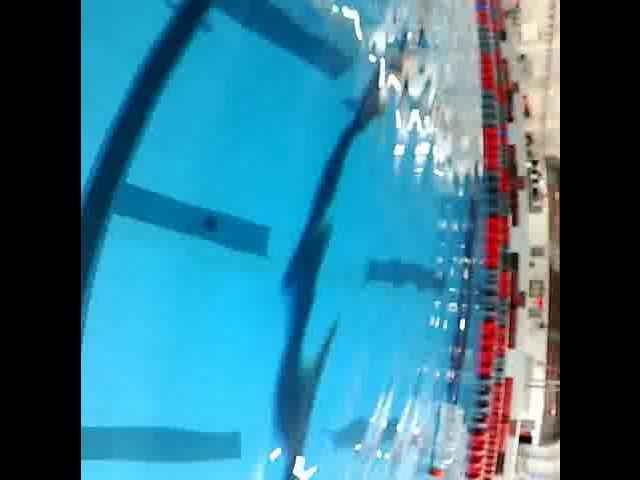Bottle: (421, 395, 467, 480)
